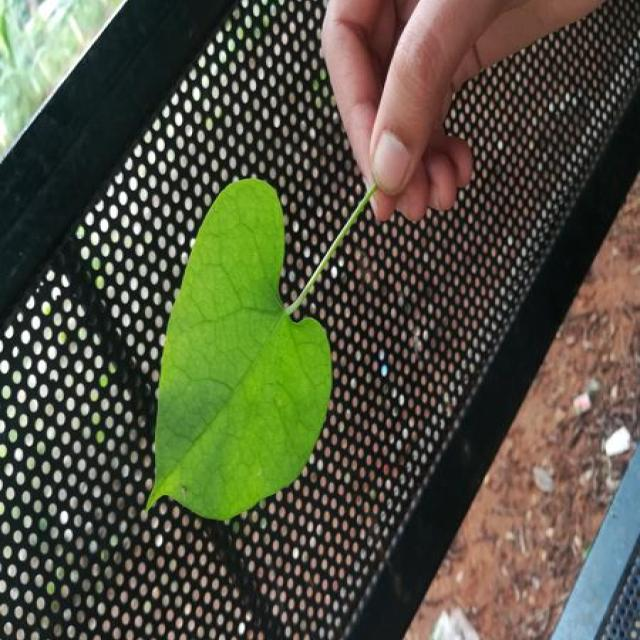Amruthaballi: (148, 179, 332, 519)
